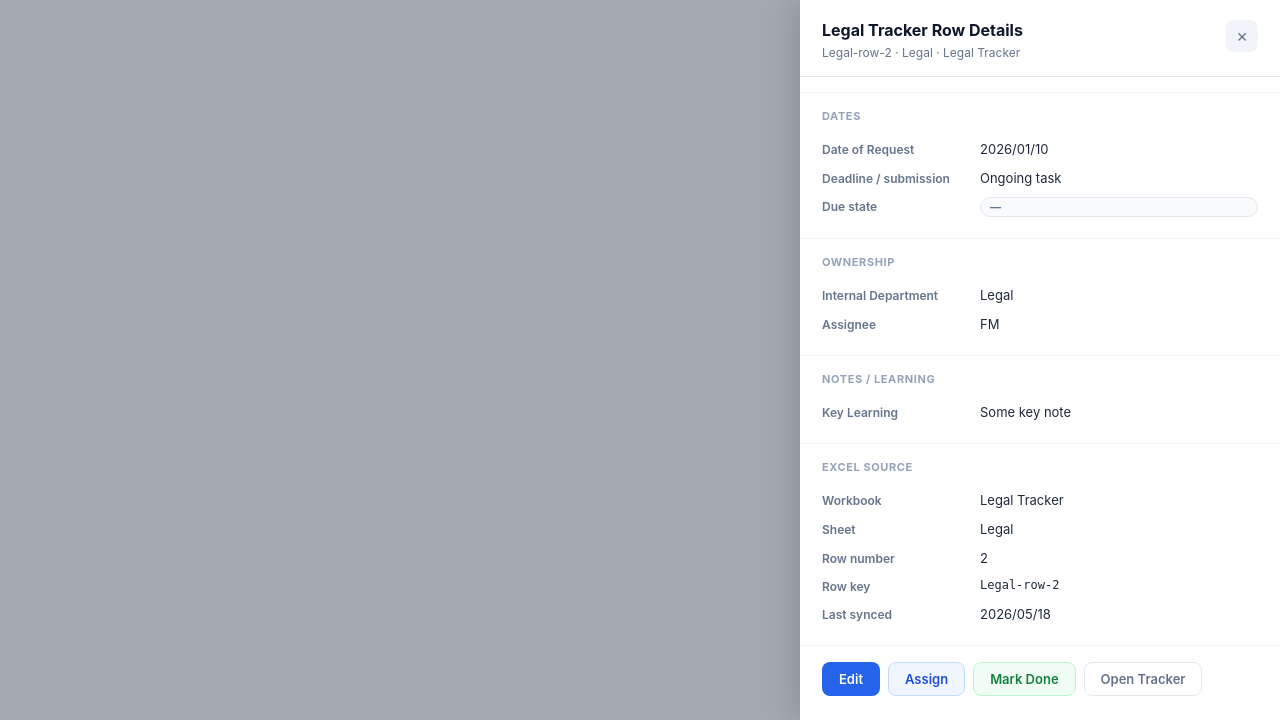
Test: Drawer — cancel edit › 34. Cancel in edit mode hides Save Changes and shows Edit again
The image size is (1280, 720).
(page scrolled)
Click the button "Edit". click: (851, 679)
box: [822, 662, 880, 696]
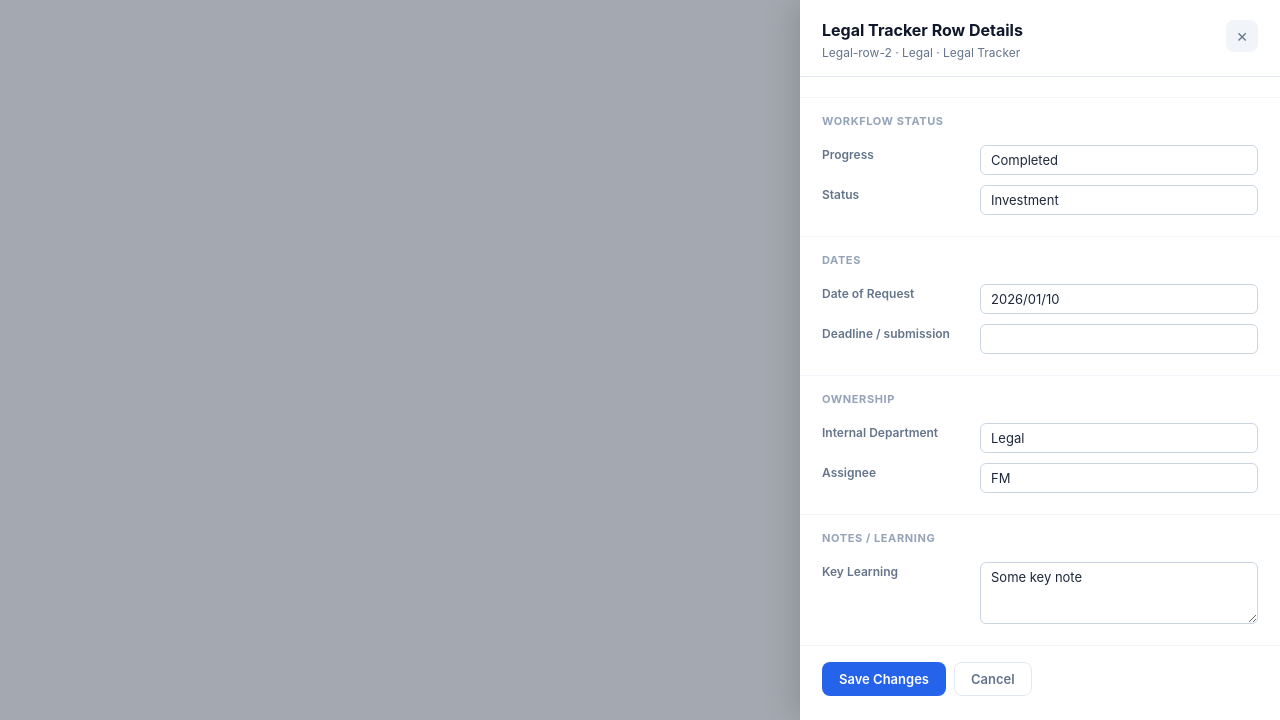
Check: the button "Save Changes" is shown, box [822, 662, 946, 696]
Click the button "Cancel". click: (993, 679)
box: [954, 662, 1032, 696]
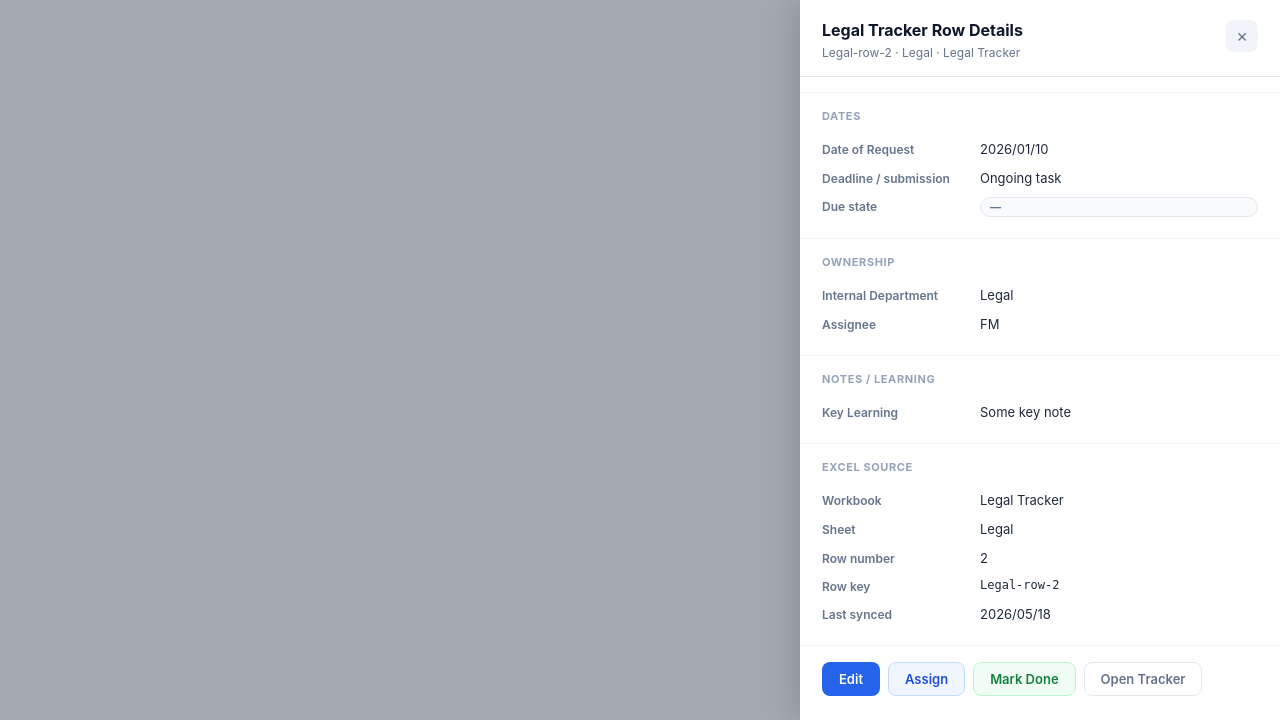
Check: the button "Save Changes" is gone
Check: the button "Edit" is shown, box [822, 662, 880, 696]
